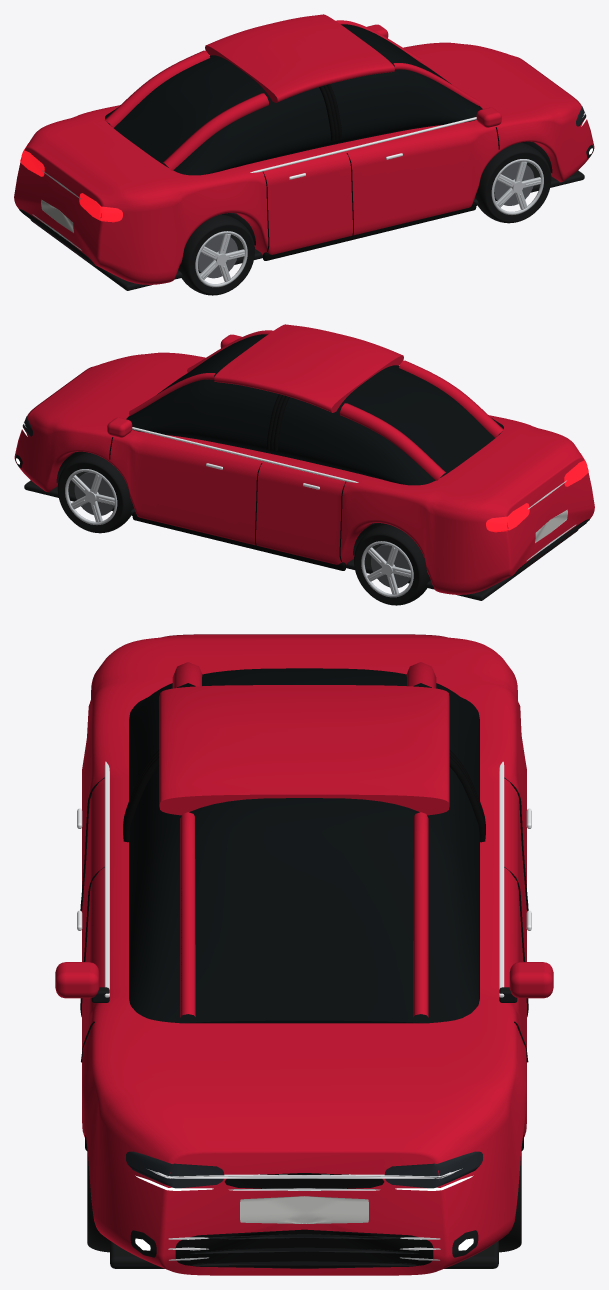
Rendered from vw-virtus.glb.
3 views of the same model, one above another, from view 1: azimuth 30°, elevation 25°; view 2: azimuth 150°, elevation 25°; view 3: azimuth 270°, elevation 25° (orthographic). The views are drawn at different scales.
Visible parts, largest first — view 1: Body, Glasshouse, Roof, Tyre (×2), Pillar (×3), Trim (×2), Disc (×2), Rim (×2), GlossBlack, Taillamp (×2), Chrome, Paint (+1 smaller); view 2: Body, Glasshouse, Roof, Tyre (×2), Pillar (×3), Trim (×2), Disc (×2), Rim (×2), GlossBlack, Taillamp (×2), Chrome, Paint (+1 smaller); view 3: Body, Glasshouse, Roof, GlossBlack (×2), Pillar (×2), Chrome (×3), Headlamp (×2), Plate, Trim (×3), Paint (×2).
Boxes of the visible parts, x1,y1,x2,y2 form: Body: (14, 42, 594, 284); Glasshouse: (105, 24, 482, 175); Roof: (205, 14, 394, 102); Tyre (×2): (178, 142, 551, 295); Pillar (×3): (105, 50, 479, 170); Trim (×2): (19, 162, 584, 290); Disc (×2): (198, 162, 534, 278); Rim (×2): (195, 159, 543, 287); GlossBlack: (263, 201, 476, 260); Taillamp (×2): (20, 143, 122, 222); Chrome: (250, 117, 476, 172); Paint: (476, 107, 501, 127); Body: (14, 352, 594, 594); Glasshouse: (126, 334, 503, 485); Roof: (214, 324, 403, 412); Tyre (×2): (57, 452, 430, 605); Pillar (×3): (129, 360, 503, 480); Trim (×2): (24, 471, 589, 600); Disc (×2): (74, 472, 410, 587); Rim (×2): (65, 469, 413, 597); GlossBlack: (132, 511, 345, 570); Taillamp (×2): (486, 453, 588, 532); Chrome: (132, 427, 358, 482); Paint: (107, 417, 132, 437); Body: (82, 634, 526, 1275); Glasshouse: (129, 668, 479, 1023); Roof: (159, 685, 449, 815); GlossBlack (×2): (175, 1173, 433, 1268); Pillar (×2): (180, 812, 428, 1017); Chrome (×3): (104, 761, 504, 1178); Headlamp (×2): (126, 1151, 482, 1188); Plate: (240, 1196, 368, 1223); Trim (×3): (110, 1241, 498, 1268); Paint (×2): (55, 962, 553, 998).
Bounding box in the file's own units: 4.52 × 1.51 × 1.93.
